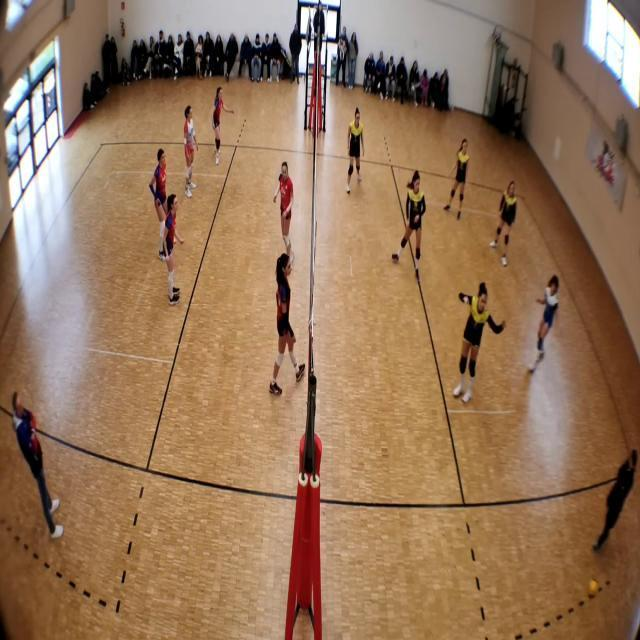volleyball: (588, 579, 598, 595)
